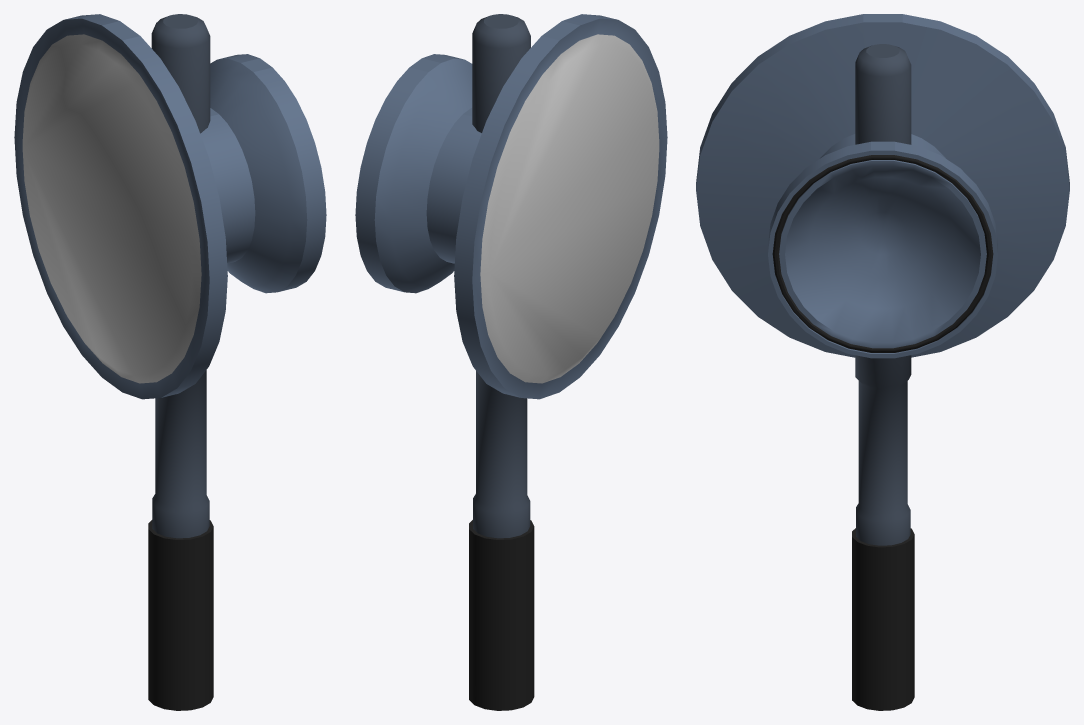
The model's file is estetoscopio.fbx.
3 renders of one model, left to right at view 1: azimuth 30°, elevation 25°; view 2: azimuth 150°, elevation 25°; view 3: azimuth 270°, elevation 25°, orthographic. The views are drawn at different scales.
Visible parts, largest first — view 1: Cylinder; view 2: Cylinder; view 3: Cylinder.
Boxes of the visible parts, box(x1,y1,x2,y2) form: Cylinder: box(14, 14, 326, 710); Cylinder: box(355, 14, 667, 710); Cylinder: box(696, 14, 1069, 710).
Bounding box in the file's own units: 1.55 × 6.35 × 3.3.
